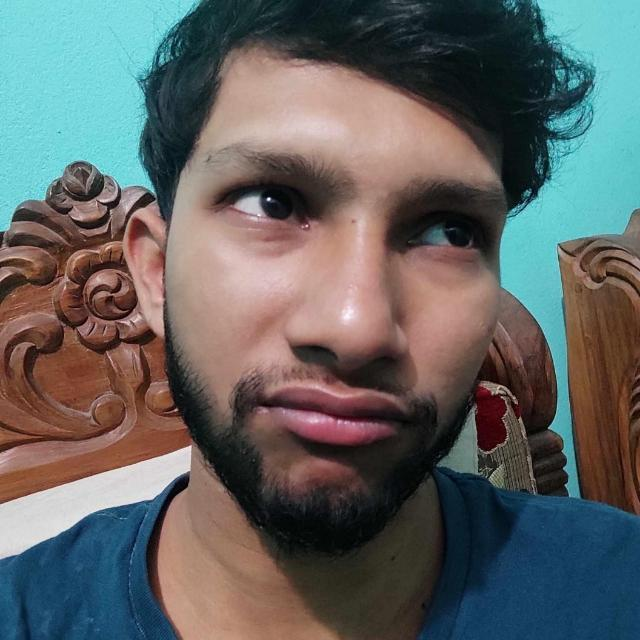Sad: (47, 5, 594, 598)
